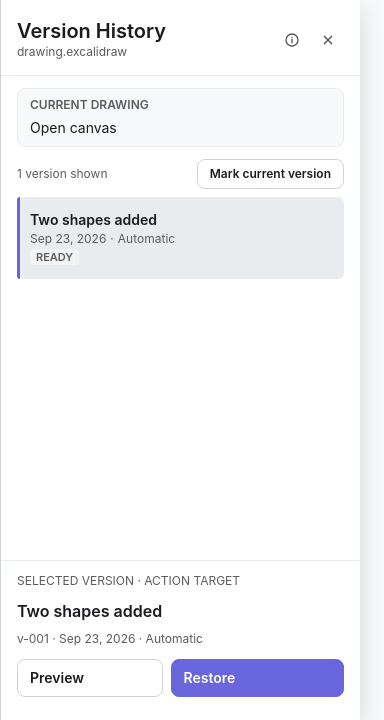
Test: HistoryPanel › shows durable mark feedback inline without opening a named dialog
Click the button "Mark current version".
click(270, 174)  # box [197, 159, 344, 189]
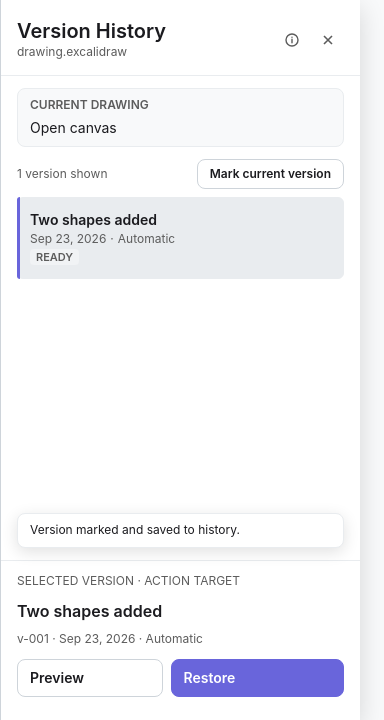
expect the message reads "Version marked and saved to history.": met, box [30, 522, 240, 537]
